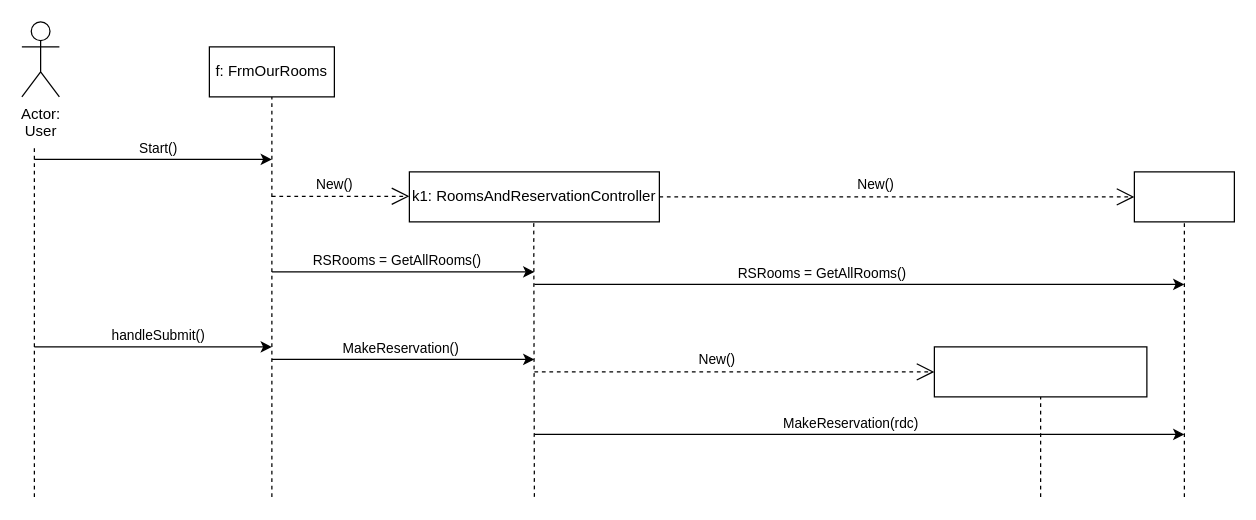
This 1256x520 diagram has some shape labels left out. Each missing label, with the centre of its shape:
b: Broker: the point at 1183,196
rdc: ReservationDataConvert: the point at 1040,371
